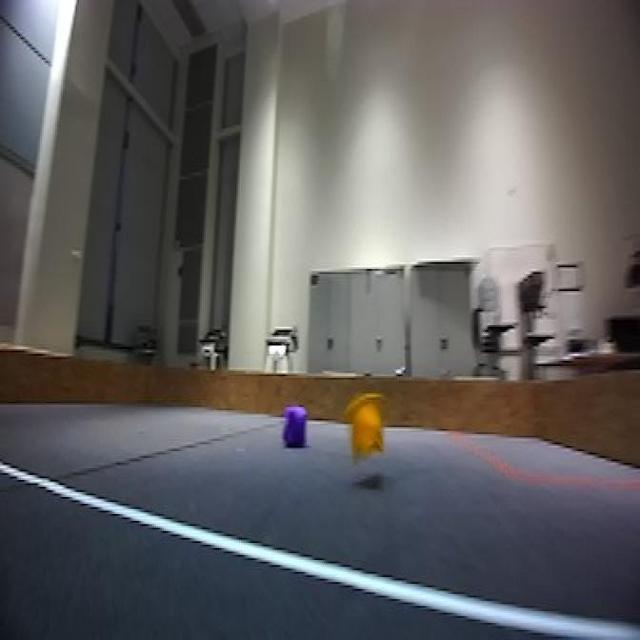frc_cone: (344, 383, 390, 471)
frc_cube: (281, 405, 309, 453)
